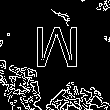M_S: (37, 30, 85, 80)
